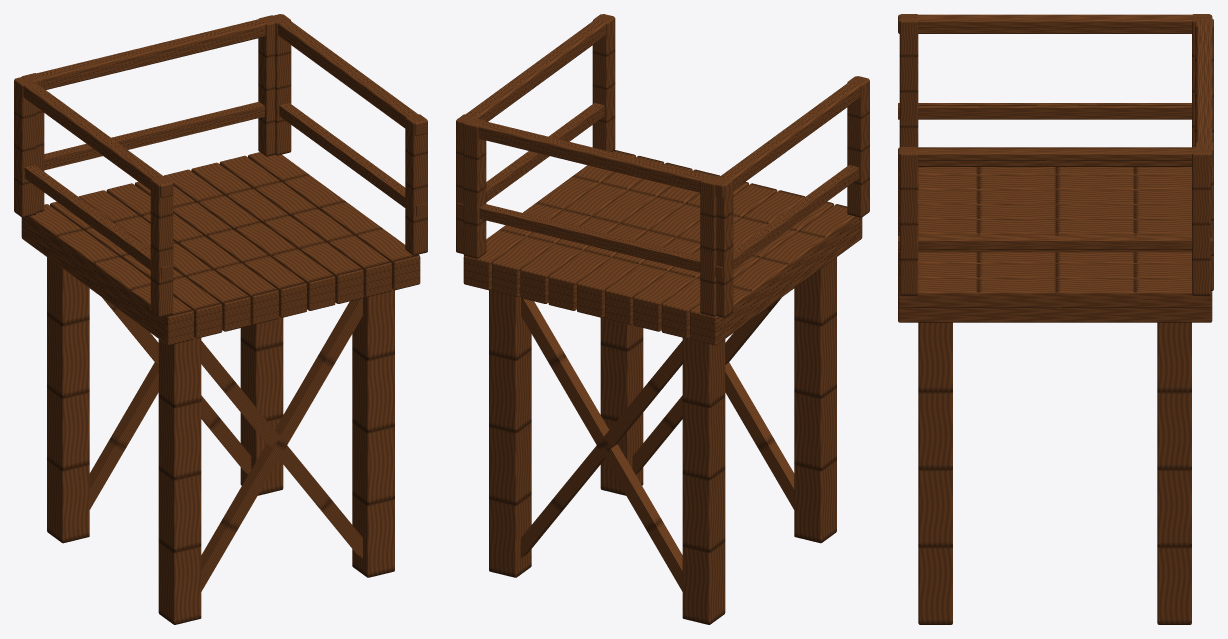
Rendered from fortified-compound-expansion-watch-platform-straight-0a09fe97__27102.glb.
3 views of the same model, side by side, from view 1: azimuth 30°, elevation 25°; view 2: azimuth 150°, elevation 25°; view 3: azimuth 270°, elevation 25° (orthographic). The views are drawn at different scales.
Parts seen in each view (by area): view 1: watch-platform-straight; view 2: watch-platform-straight; view 3: watch-platform-straight.
Boxes of the visible parts, left/top/right/bottom form: watch-platform-straight: left=14, top=14, right=427, bottom=624; watch-platform-straight: left=456, top=14, right=869, bottom=624; watch-platform-straight: left=898, top=14, right=1213, bottom=624.
Size of the model in its own units: 2.12 by 3.4 by 2.01.
Materials: 1 (1 with a texture image).
